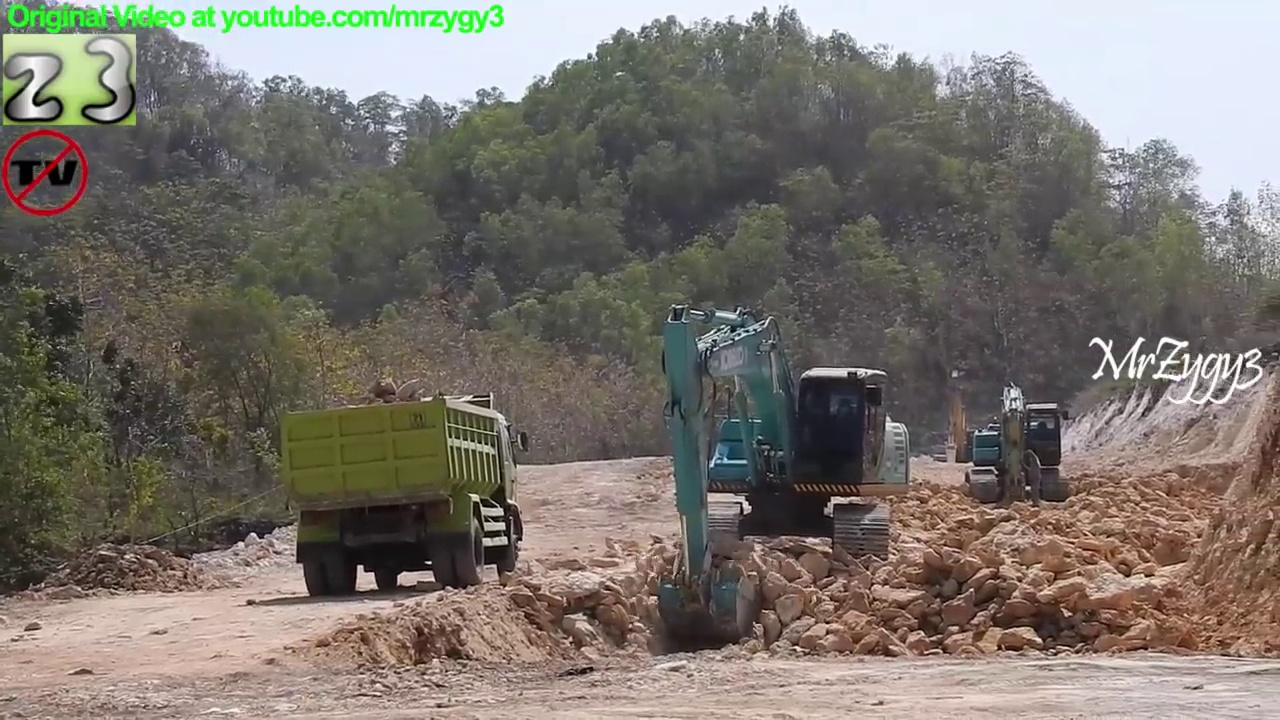excavator: (650, 298, 917, 650), (926, 365, 995, 474)
excavator breaker: (965, 376, 1075, 513)
truck: (274, 389, 534, 600)
worker: (1012, 444, 1054, 512)
